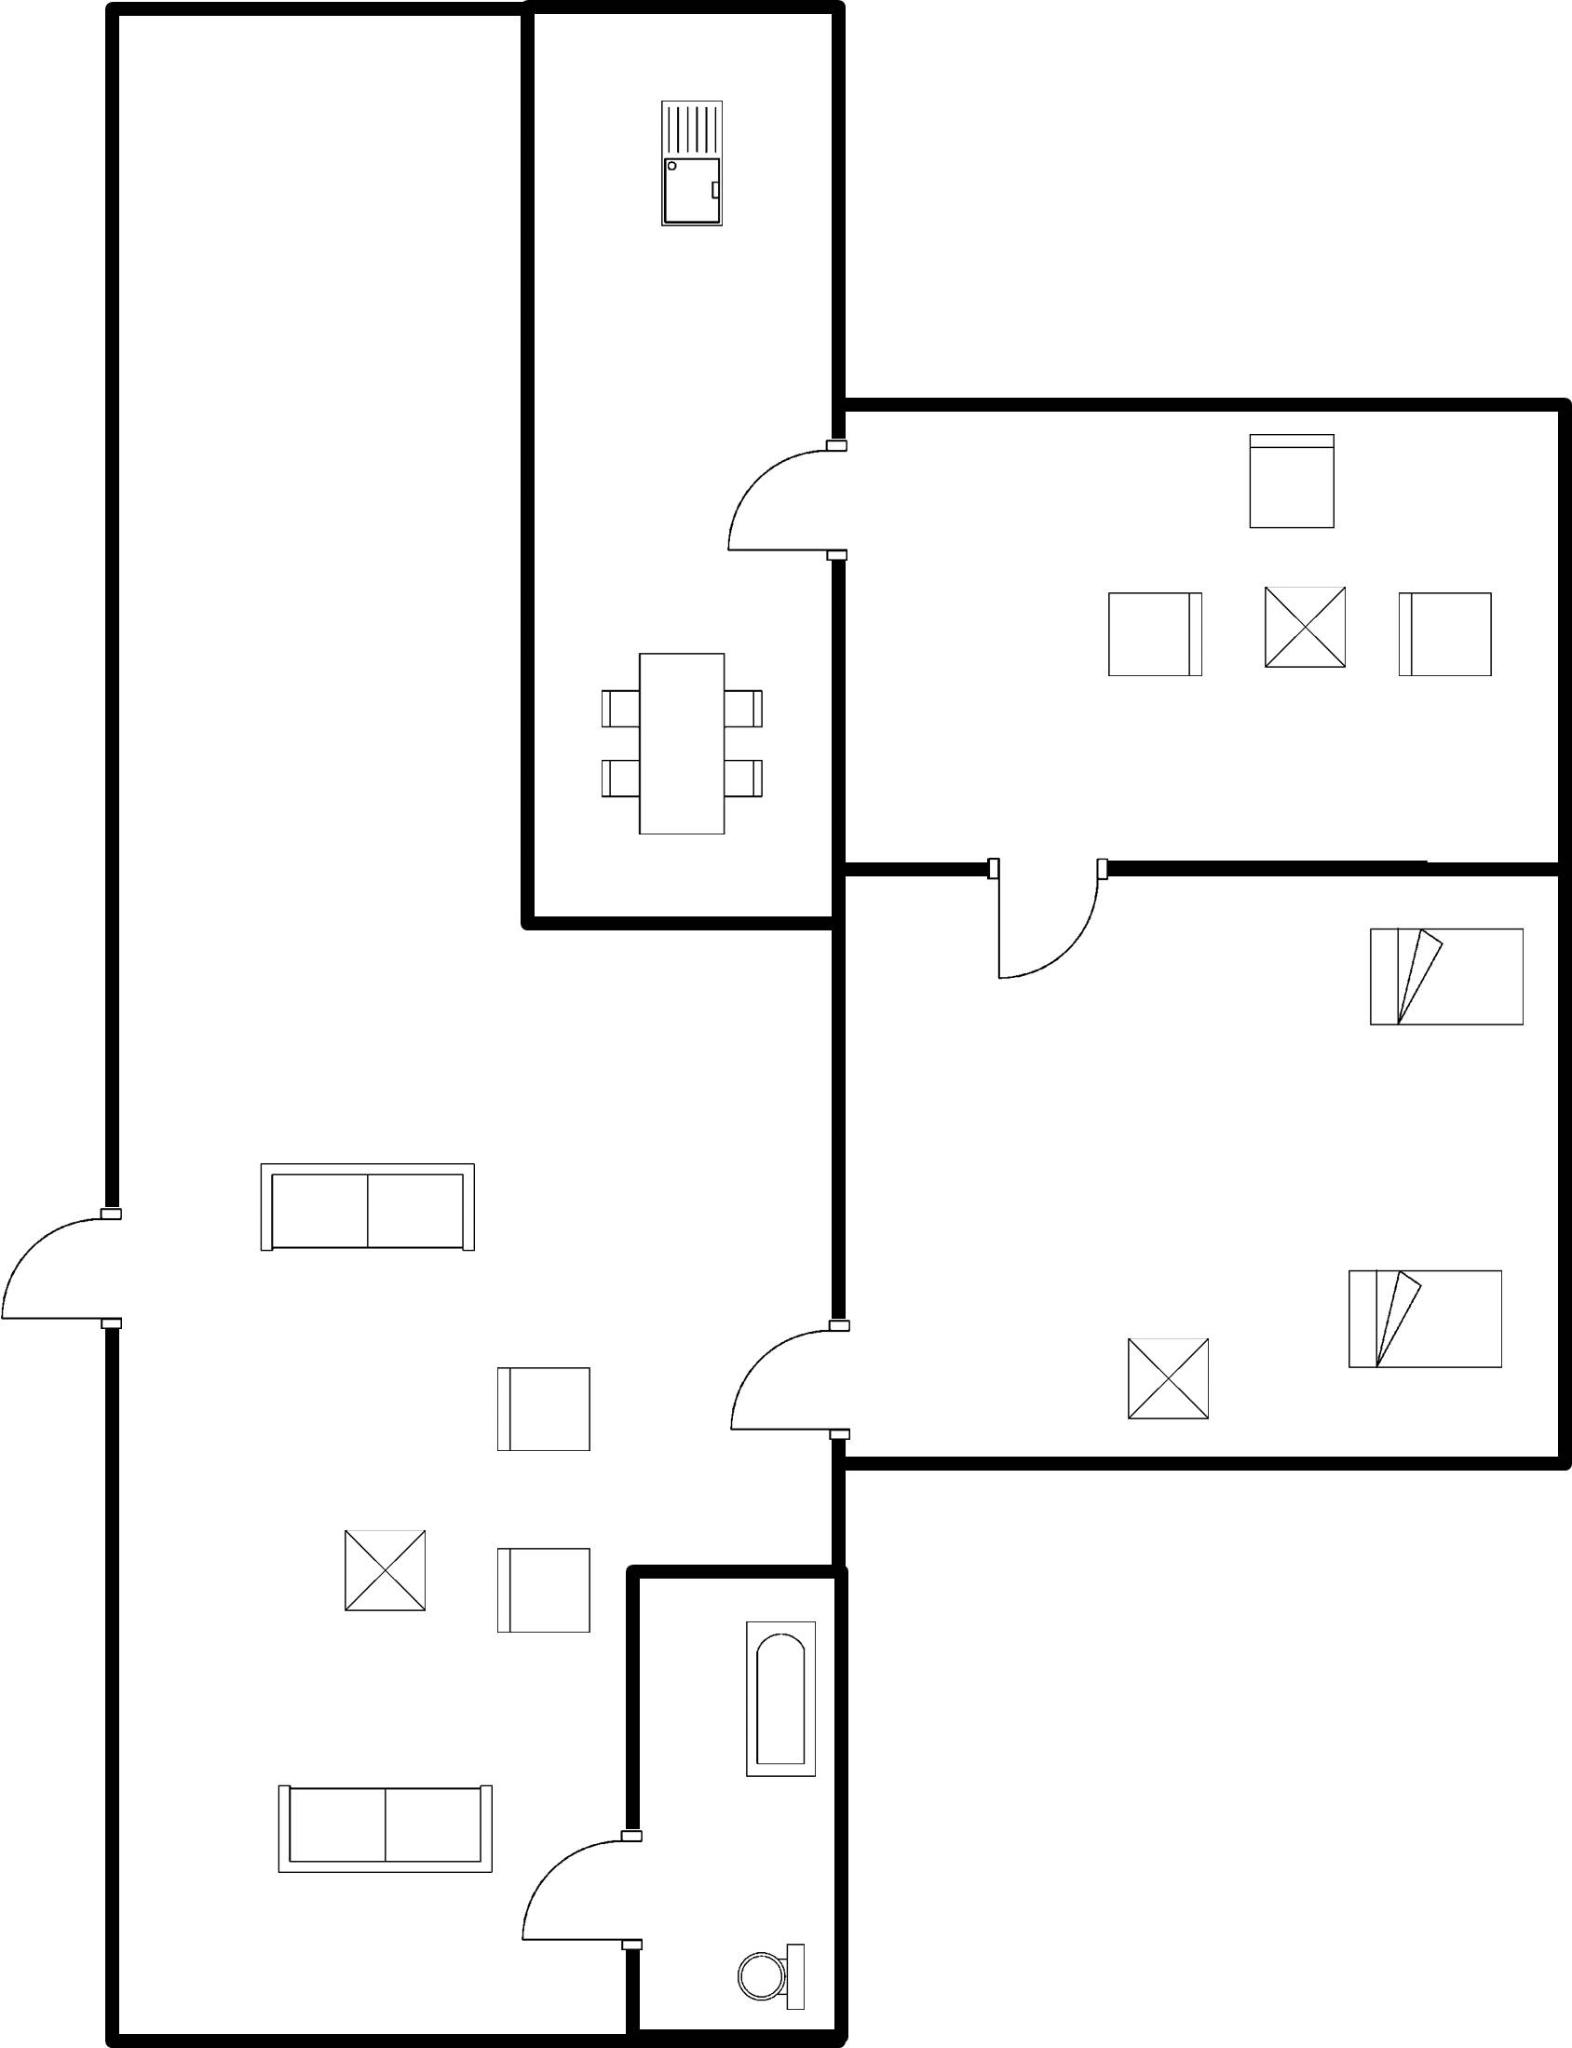bed: (1331, 1257, 1522, 1379), (1356, 910, 1537, 1039)
dining_table: (585, 634, 779, 852)
sink: (651, 89, 738, 238)
sofa: (239, 1146, 489, 1268), (258, 1774, 505, 1884)
toilet: (723, 1926, 821, 2020)
tub: (728, 1612, 829, 1790)
